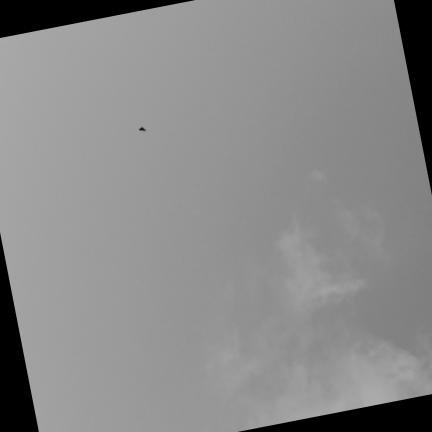Shahed: (139, 127, 145, 131)
